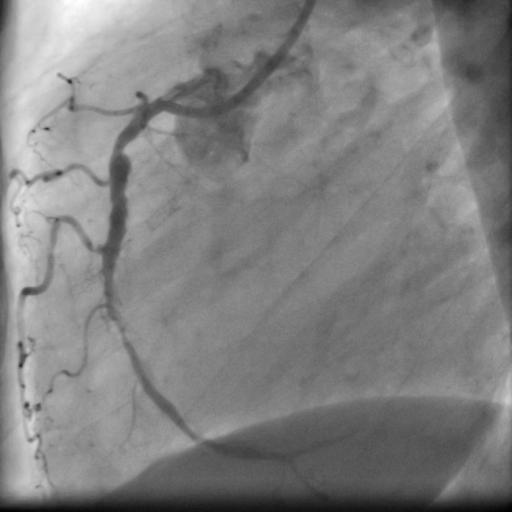Stenosis: (108, 133, 130, 156)
